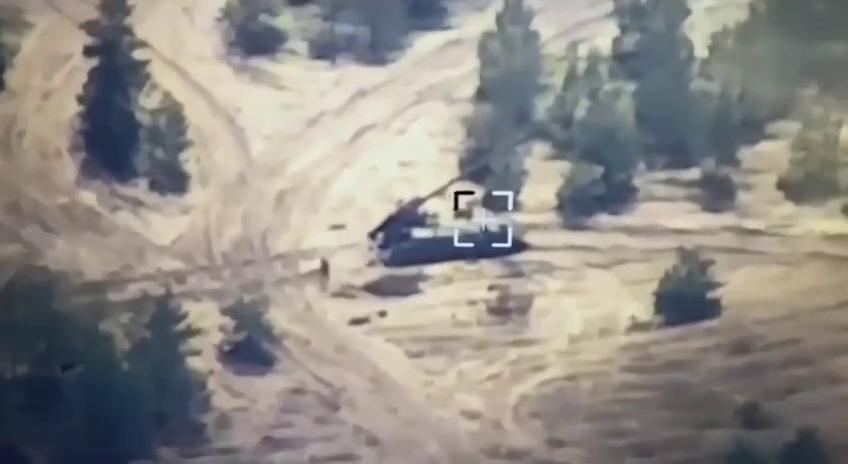tank: (363, 134, 535, 271)
